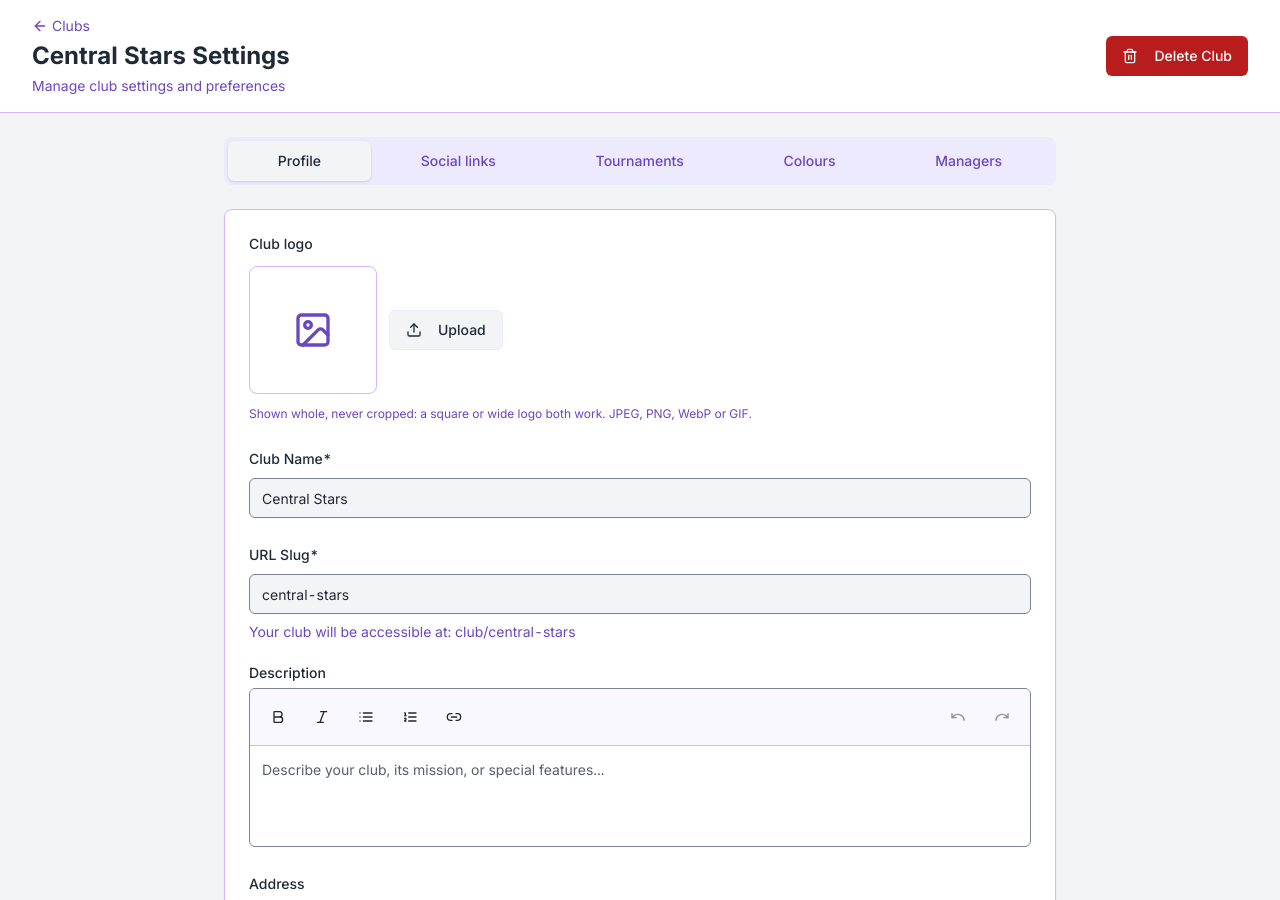
Test: ClubSettingsPage: who sees what › shows the owner or an admin every tab, the Managers tab and Delete Club
Expected: the heading "Central Stars Settings" is shown, top-left (32, 40), bottom-right (290, 72)
Expected: the button "Delete Club" is shown, top-left (1106, 36), bottom-right (1248, 76)
Click the tab "Managers".
click(969, 161)  # box top-left (885, 141), bottom-right (1052, 181)
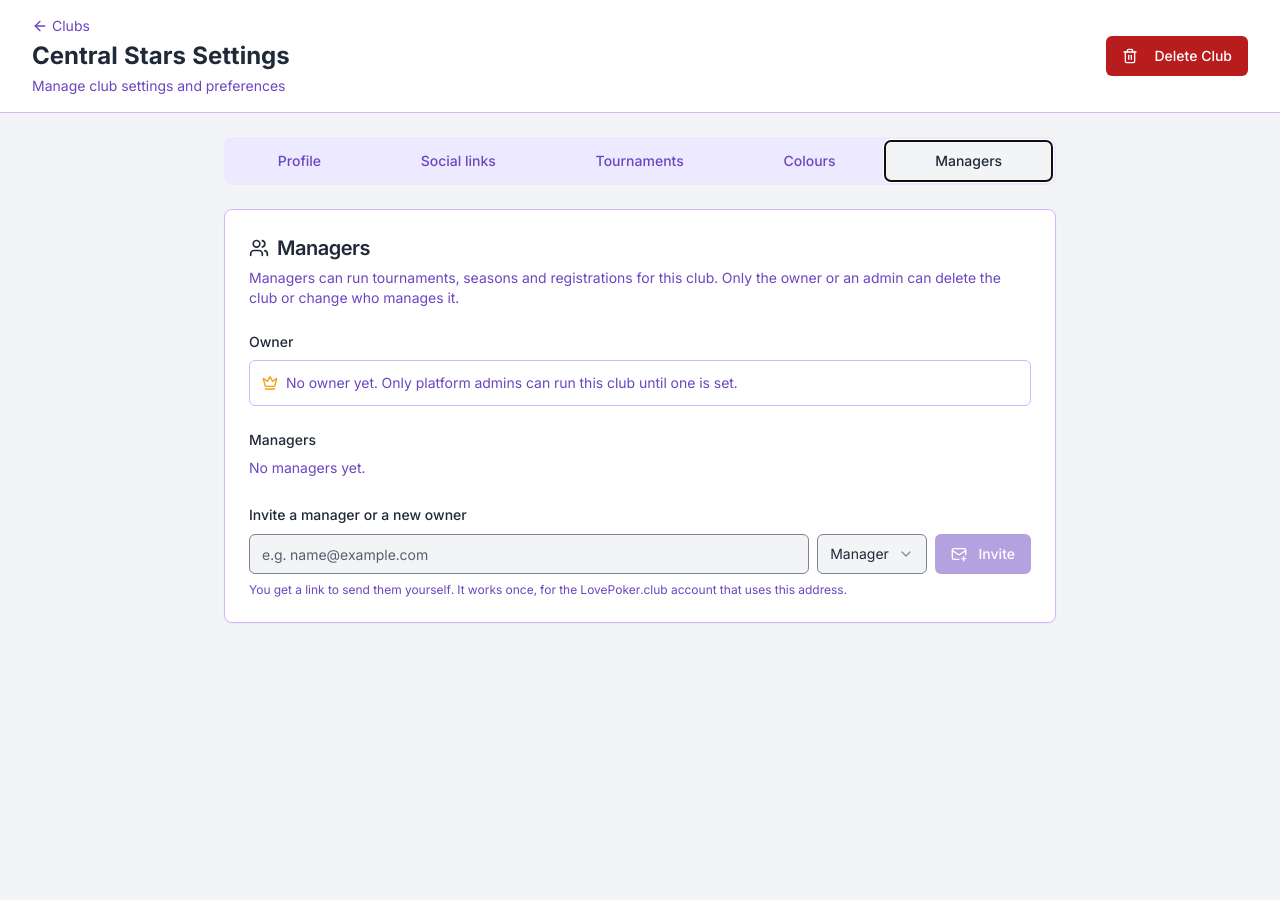
Expected: the element with test id "staff-owner" shows "No owner yet", top-left (286, 374), bottom-right (738, 391)
Expected: the dropdown with test id "invite-role" is shown, top-left (817, 534), bottom-right (927, 574)
